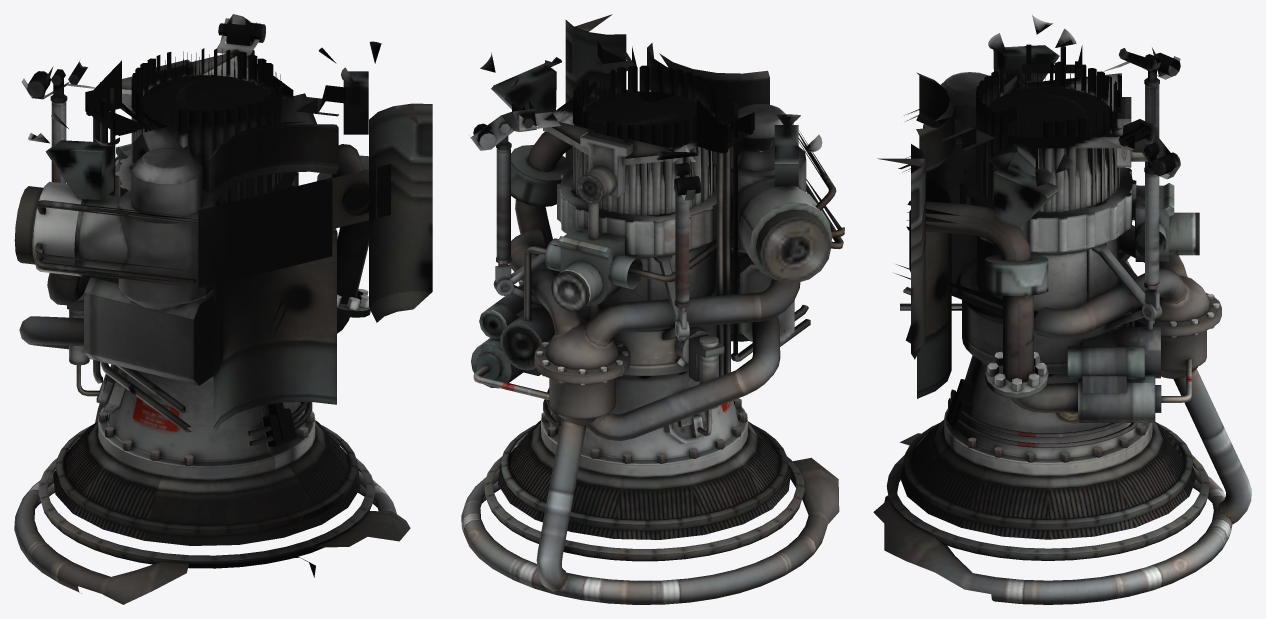
The model's file is UpperHinge.fbx.
The picture shows the model from 3 angles, left to right: view 1: azimuth 30°, elevation 25°; view 2: azimuth 150°, elevation 25°; view 3: azimuth 270°, elevation 25°; orthographic projection. The views are drawn at different scales.
Parts seen in each view (by area): view 1: Rocket_Engine.001; view 2: Rocket_Engine.001; view 3: Rocket_Engine.001.
Part boxes in pixels (<box>): Rocket_Engine.001: <box>14,14,432,604</box>; Rocket_Engine.001: <box>461,14,844,604</box>; Rocket_Engine.001: <box>873,15,1251,604</box>.
Size of the model in its own units: 132 by 167 by 124.
